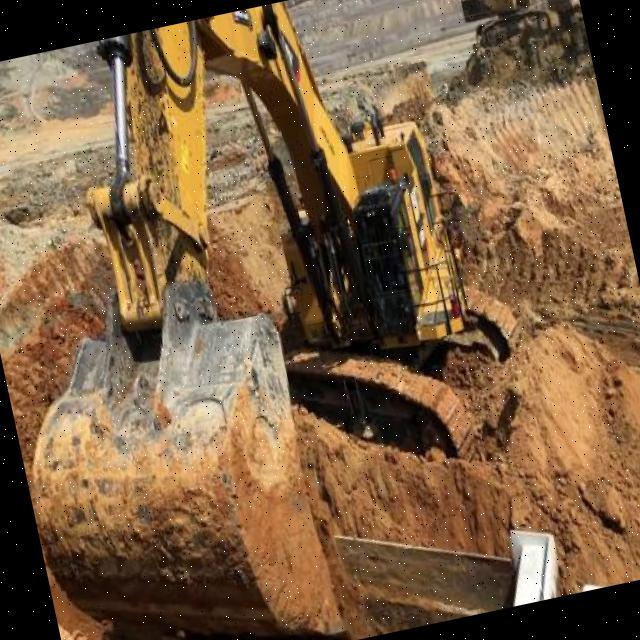Dump Truck: (537, 0, 582, 33)
Excavator: (0, 0, 563, 640), (453, 0, 550, 51)
